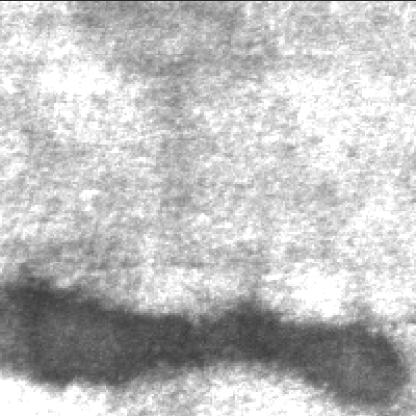patches: (0, 278, 399, 397)
